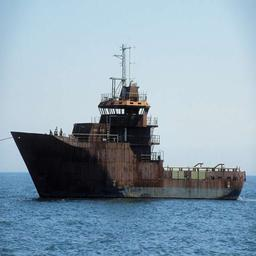Ship: (14, 88, 248, 203)
